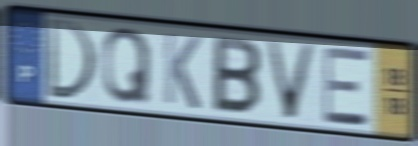B: (209, 33, 263, 118)
D: (44, 15, 100, 104)
E: (321, 46, 372, 130)
K: (161, 29, 203, 113)
Q: (100, 25, 153, 107)
V: (262, 38, 320, 123)
